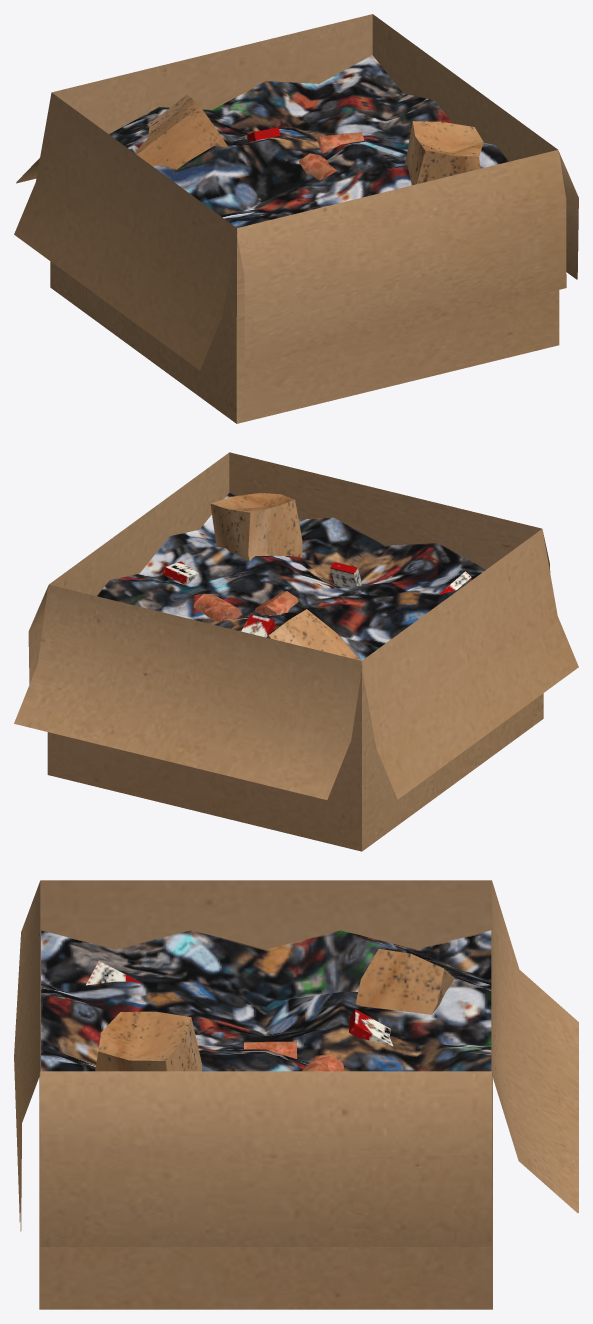
The model's file is junk_box.glb.
3 views of the same model, one above another, from view 1: azimuth 30°, elevation 25°; view 2: azimuth 150°, elevation 25°; view 3: azimuth 270°, elevation 25° (orthographic). The views are drawn at different scales.
Parts seen in each view (by area): view 1: mesh; view 2: mesh; view 3: mesh.
Part boxes in pixels (x1,y1,x2,y2): mesh: (14, 14, 578, 423); mesh: (14, 452, 578, 851); mesh: (14, 880, 578, 1309).
Bounding box in the file's own units: 0.805 × 0.396 × 0.8368.
1 material, 1 textured.
